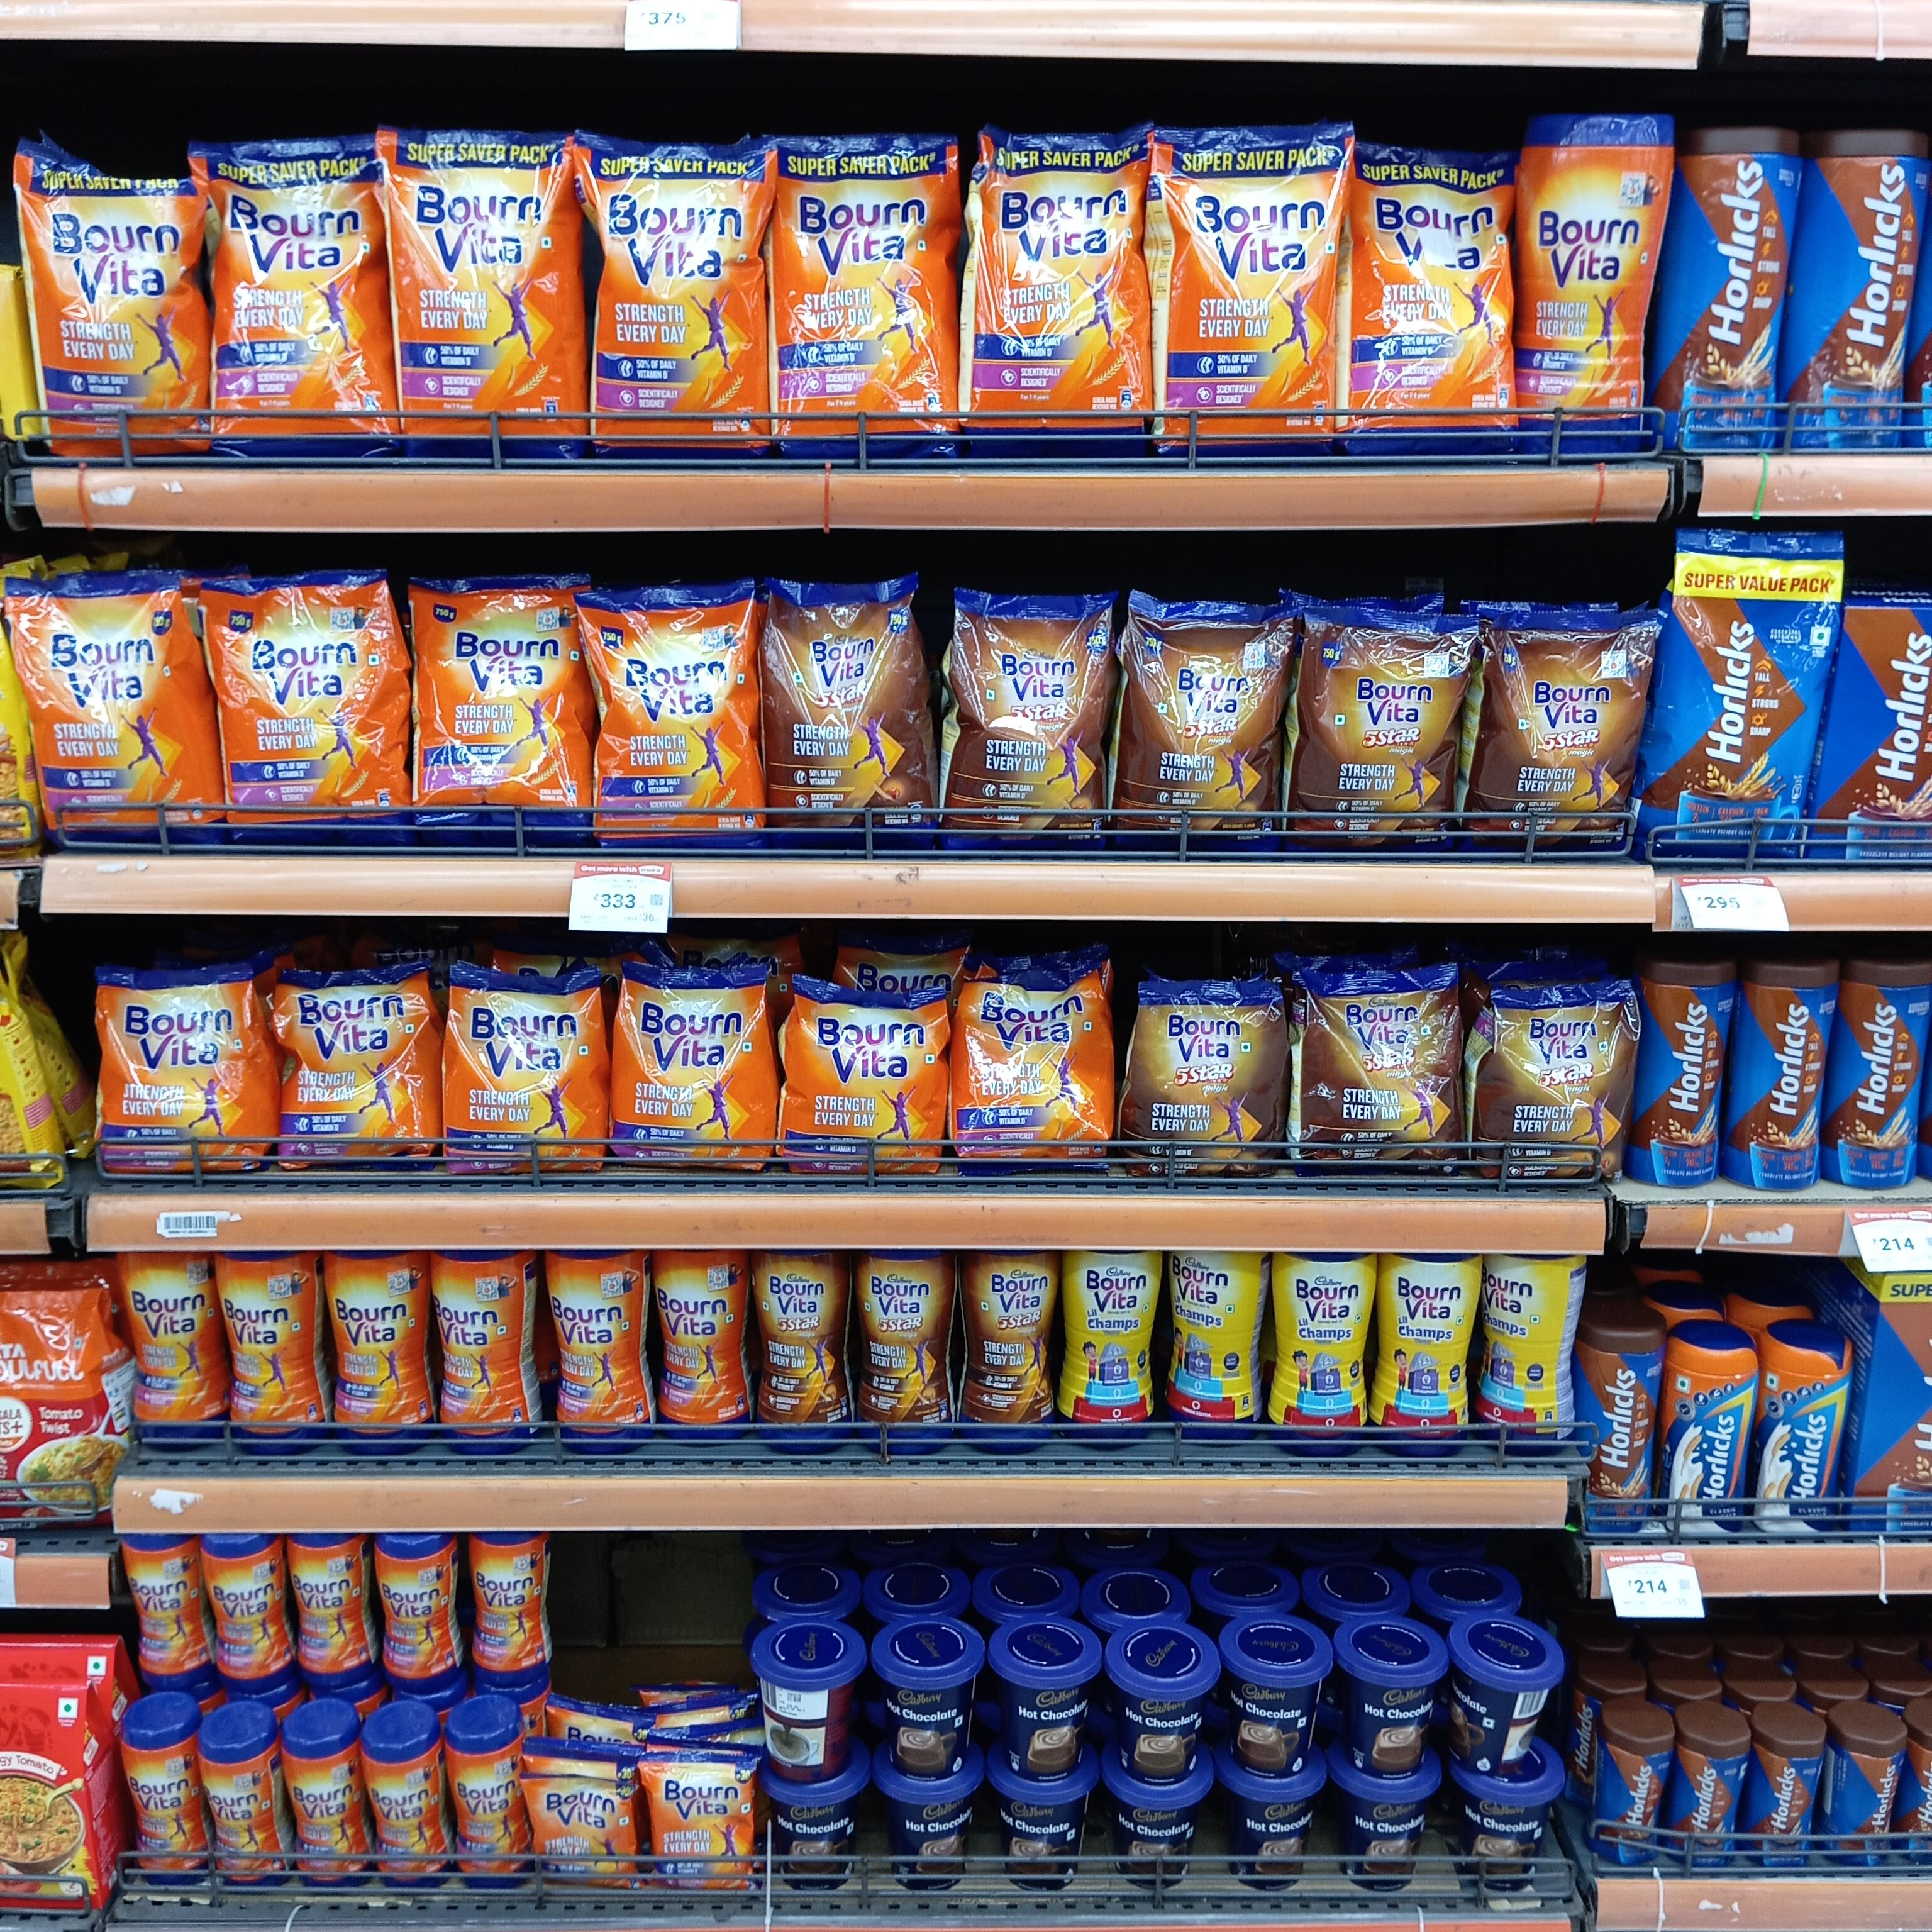BOURN_VITA_1_KG_JAR: (1520, 106, 1670, 476)
BOURN_VITA_1_KG_POUCH: (395, 134, 577, 453), (1171, 127, 1338, 462), (984, 120, 1150, 441), (587, 136, 755, 451), (212, 142, 379, 458), (784, 131, 948, 444), (1355, 142, 1509, 462), (48, 154, 189, 446)
BOURN_VITA_200_G_JAR: (281, 1723, 361, 1884), (122, 1537, 207, 1688), (212, 1532, 288, 1691), (122, 1727, 196, 1890), (368, 1727, 442, 1888), (288, 1532, 366, 1684), (380, 1541, 460, 1688), (455, 1730, 525, 1891), (467, 1518, 541, 1670), (205, 1739, 274, 1888)
BOURN_VITA_500_G_JAR: (329, 1246, 430, 1445), (548, 1251, 646, 1456), (113, 1253, 211, 1454), (216, 1247, 306, 1454), (432, 1242, 520, 1447), (658, 1258, 745, 1451)
BOURN_VITA_500_G_POUCH: (96, 971, 257, 1178), (617, 962, 770, 1166), (283, 966, 426, 1166), (787, 985, 936, 1175), (455, 968, 594, 1168), (964, 973, 1113, 1157)
BOURN_VITA_750_G_POUCH: (223, 571, 402, 851), (416, 573, 577, 847), (587, 586, 755, 842), (23, 571, 179, 846)
BOURN_VITA_75_G_POUCH: (655, 1760, 747, 1909), (534, 1775, 633, 1900)
BOURN_VITA_CHAMPS_500_G_JAR: (1380, 1246, 1470, 1447), (1283, 1254, 1371, 1454), (1169, 1251, 1253, 1440), (1476, 1244, 1553, 1445), (1074, 1254, 1154, 1451)
BOURN_VITA_FIVE_STAR_MAGIC_500_G_JAR: (860, 1247, 950, 1460), (961, 1254, 1060, 1445), (752, 1256, 847, 1453)
BOURN_VITA_FIVE_STAR_MAGIC_500_G_POUCH: (1129, 982, 1281, 1178), (1309, 971, 1456, 1169), (1493, 987, 1633, 1194)
BOURN_VITA_FIVE_STAR_MAGIC_750_G_POUCH: (766, 580, 924, 844), (945, 589, 1099, 851), (1123, 596, 1279, 855), (1490, 617, 1640, 855), (1311, 616, 1461, 851)
HORLICK_CHOCOLATE_1_KG_JAR: (1681, 122, 1798, 456), (1810, 129, 1925, 455)
HORLICK_CHOCOLATE_200_G_JAR: (1835, 1727, 1909, 1867), (1681, 1730, 1750, 1870), (1759, 1730, 1822, 1870), (1612, 1720, 1670, 1868)
HORLICK_CHOCOLATE_500_G_JAR: (1737, 955, 1833, 1198), (1633, 955, 1729, 1189), (1842, 959, 1923, 1196), (1576, 1323, 1658, 1534)
HORLICK_CHOCOLATE_500_G_PACK: (1822, 614, 1932, 862)
HORLICK_CHOCOLATE_750_G_POUCH: (1667, 552, 1815, 865)
HORLICK_CLASSIC_MALT_500_G_JAR: (1764, 1334, 1849, 1541), (1675, 1334, 1759, 1537)
